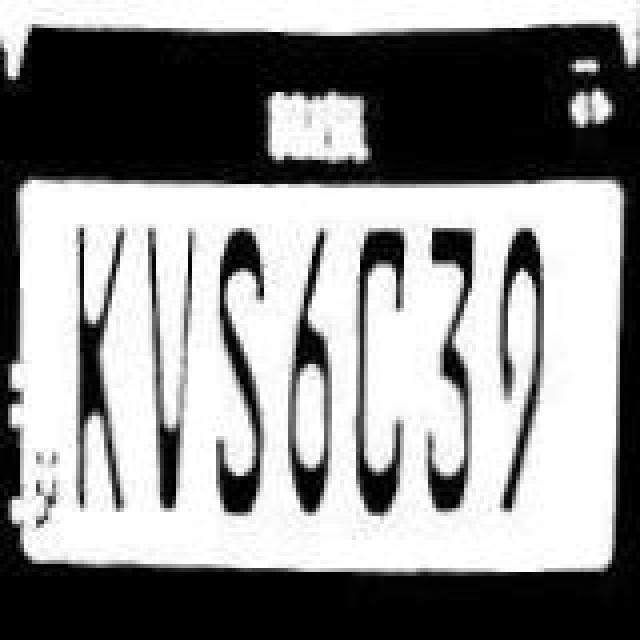3: (422, 218, 490, 522)
6: (280, 206, 352, 514)
9: (494, 208, 554, 516)
C: (352, 210, 416, 510)
K: (64, 208, 136, 516)
S: (210, 218, 278, 506)
V: (138, 218, 198, 506)
